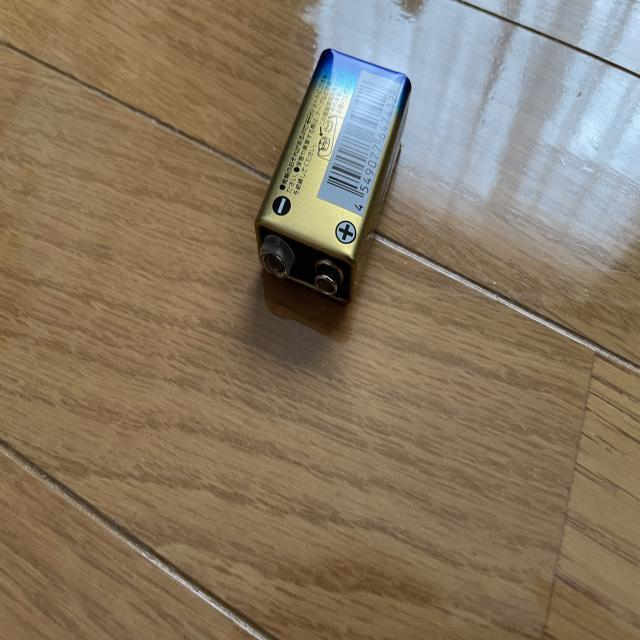9V: (254, 46, 412, 305)
